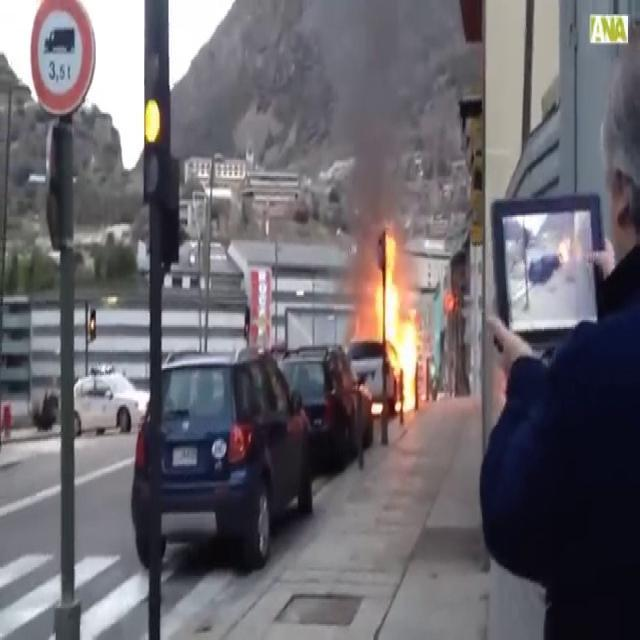Fire: (370, 226, 424, 414)
Smoke: (314, 0, 426, 236)
